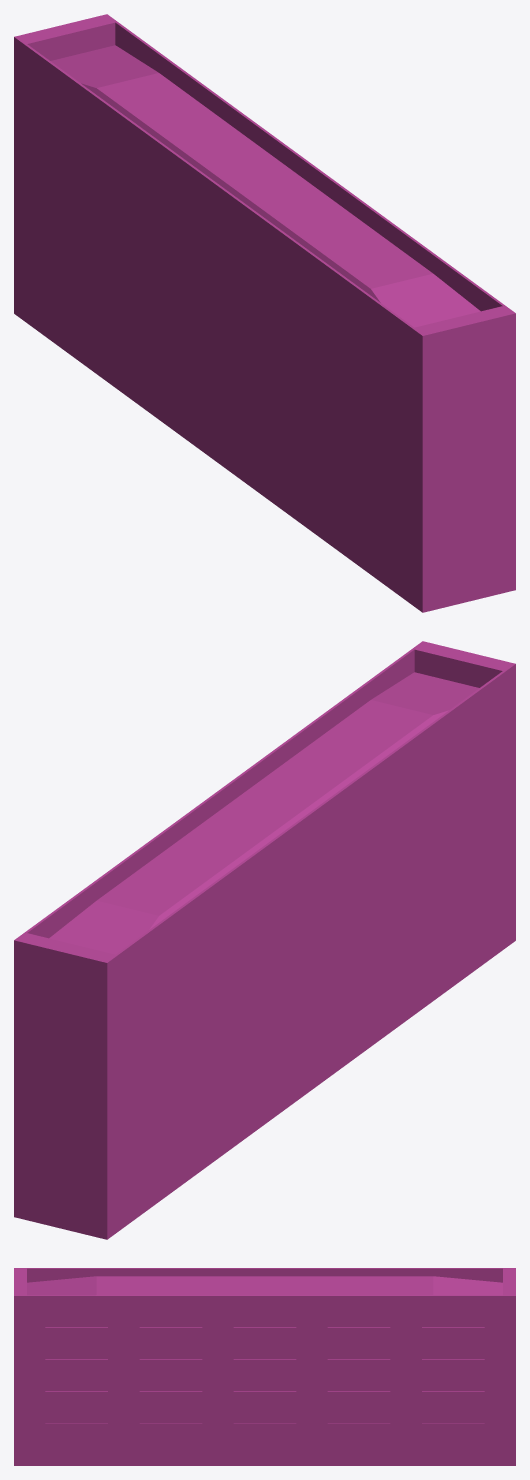
The model's file is level1.1.fbx.
The picture shows the model from 3 angles, top to bottom: view 1: azimuth 30°, elevation 25°; view 2: azimuth 150°, elevation 25°; view 3: azimuth 270°, elevation 25°; orthographic projection. The views are drawn at different scales.
Parts seen in each view (by area): view 1: Cube; view 2: Cube; view 3: Cube.
Part boxes in pixels (<box>): Cube: <box>14,14,515,612</box>; Cube: <box>14,641,515,1239</box>; Cube: <box>14,1268,515,1465</box>.
Bounding box in the file's own units: 89.38 × 254 × 679.
